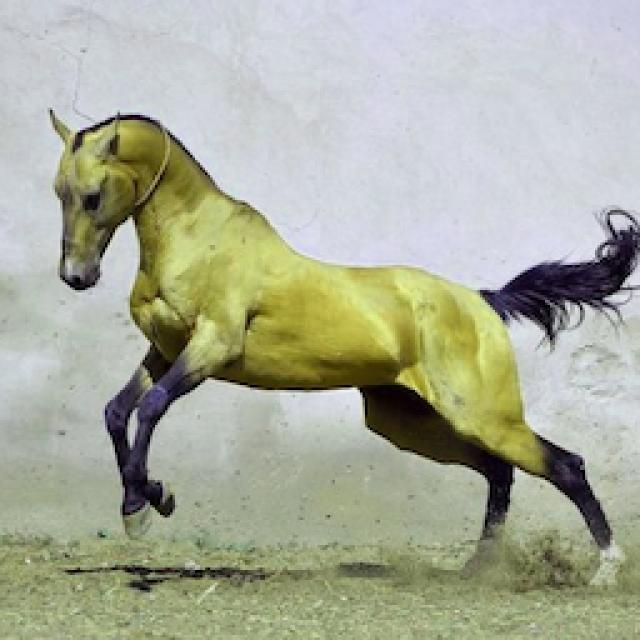Horse: (40, 100, 640, 592)
